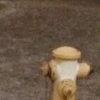Hydrant: (32, 41, 94, 100)
